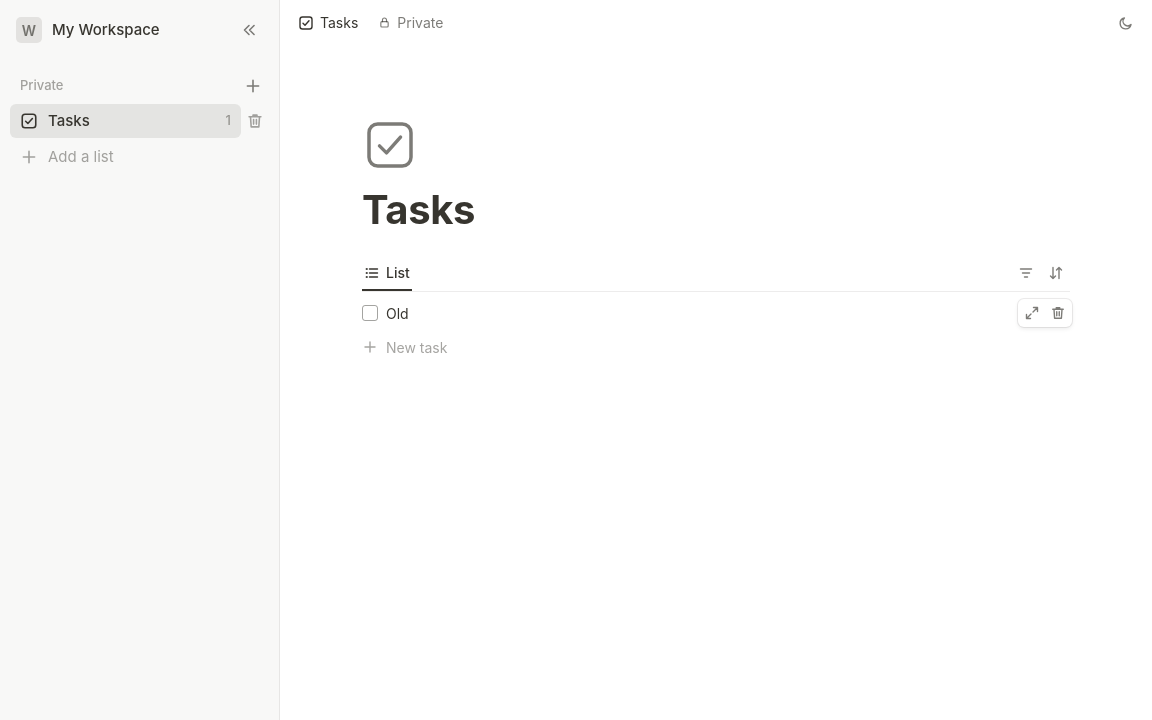
it: editing tasks › renames inline with Enter, and Escape discards the edit
This screenshot has width=1152, height=720.
Expected: the field labelled "New task" is shown, [386, 334, 1070, 360]
Click the button named "Edit title: Old". click: coordinates (397, 313)
box: [386, 300, 1062, 326]
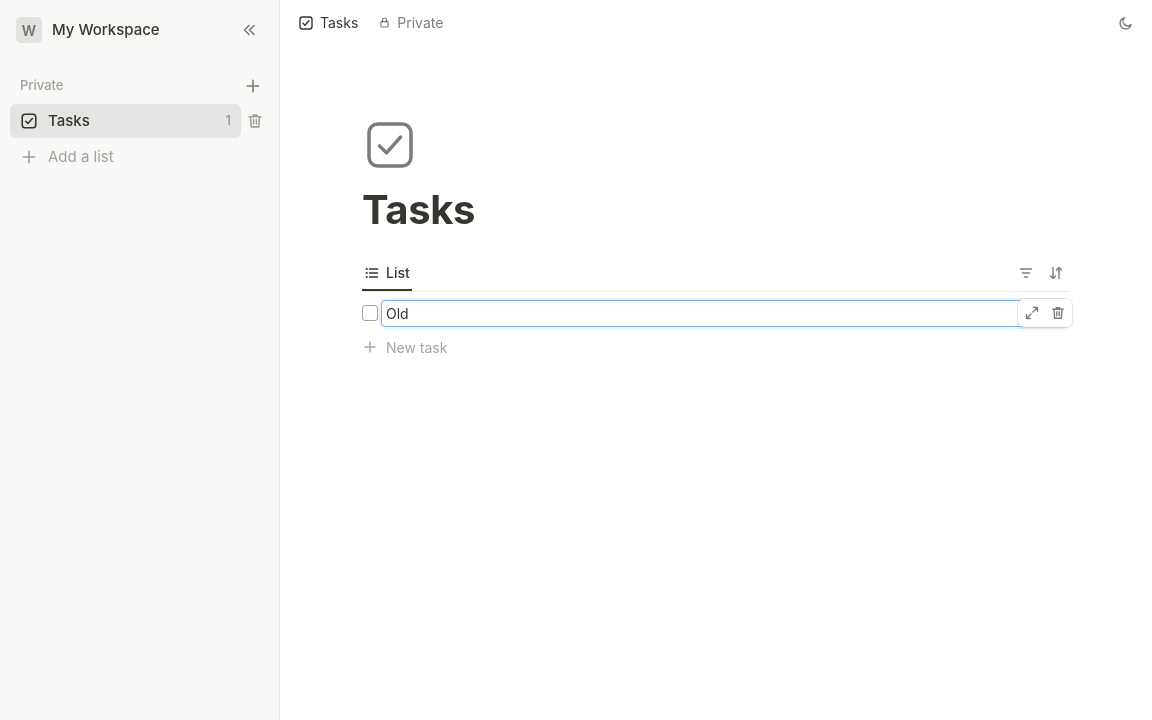
Replace the text in the field named "Title" with "New". click: coordinates (724, 313)
box: [382, 300, 1066, 326]
Then press Enter
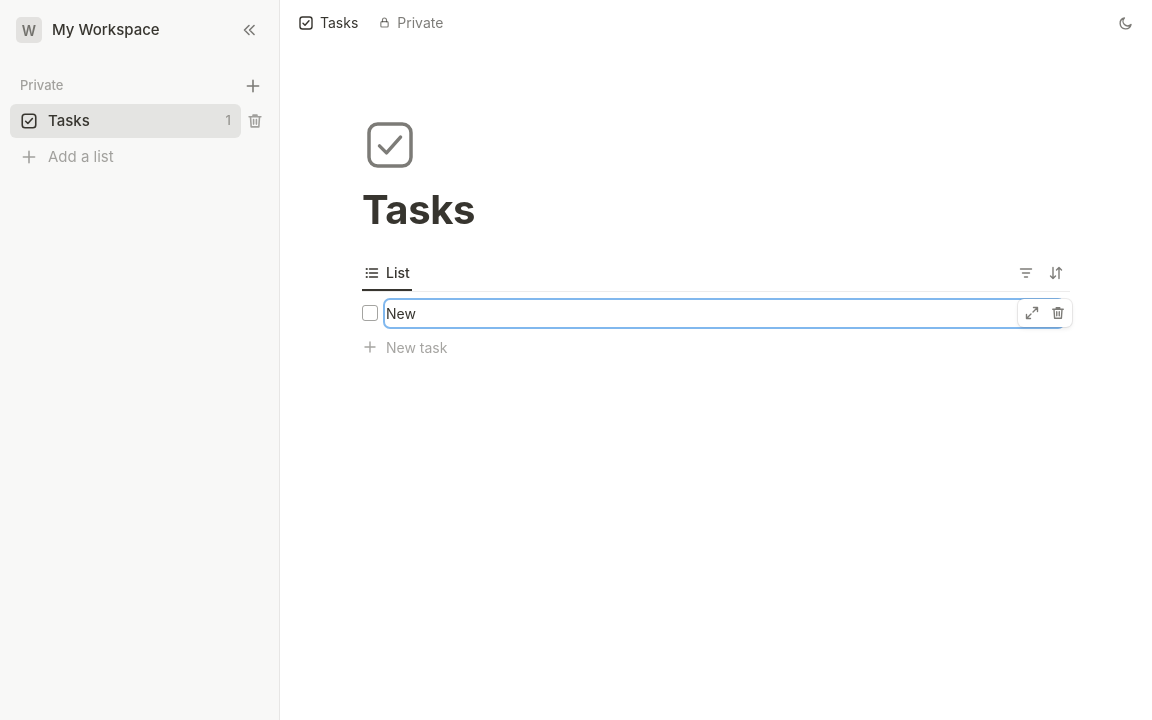
Expected: the button "New" is shown
Click the button named "Edit title: New". click: coordinates (401, 313)
box: [386, 300, 1062, 326]
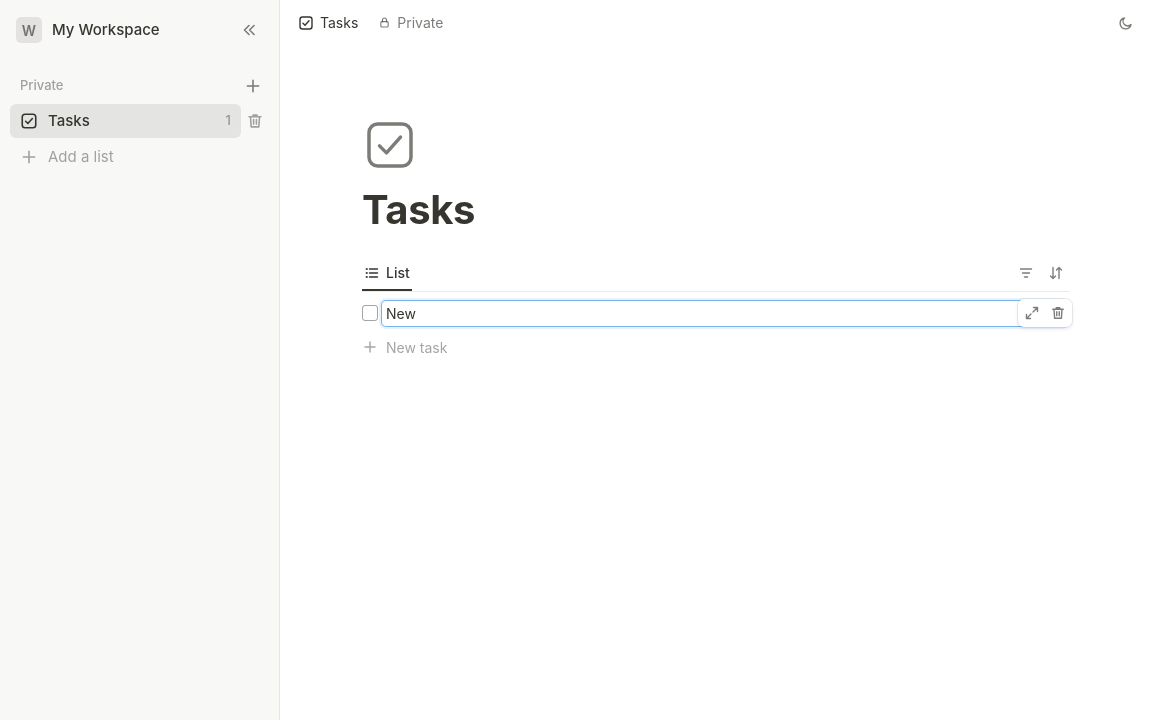
Type " draft" into the field named "Title". click: coordinates (724, 313)
box: [382, 300, 1066, 326]
Then press Escape
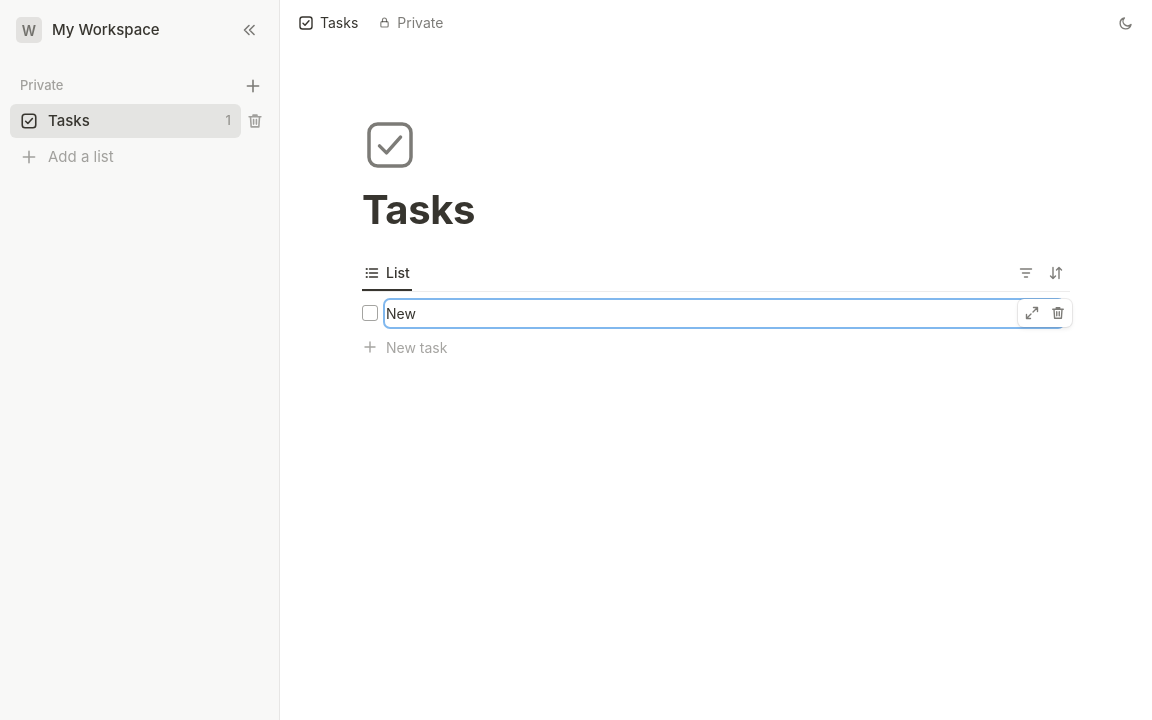
Expected: the button named "Edit title: New" reads "New", [386, 300, 1062, 326]
